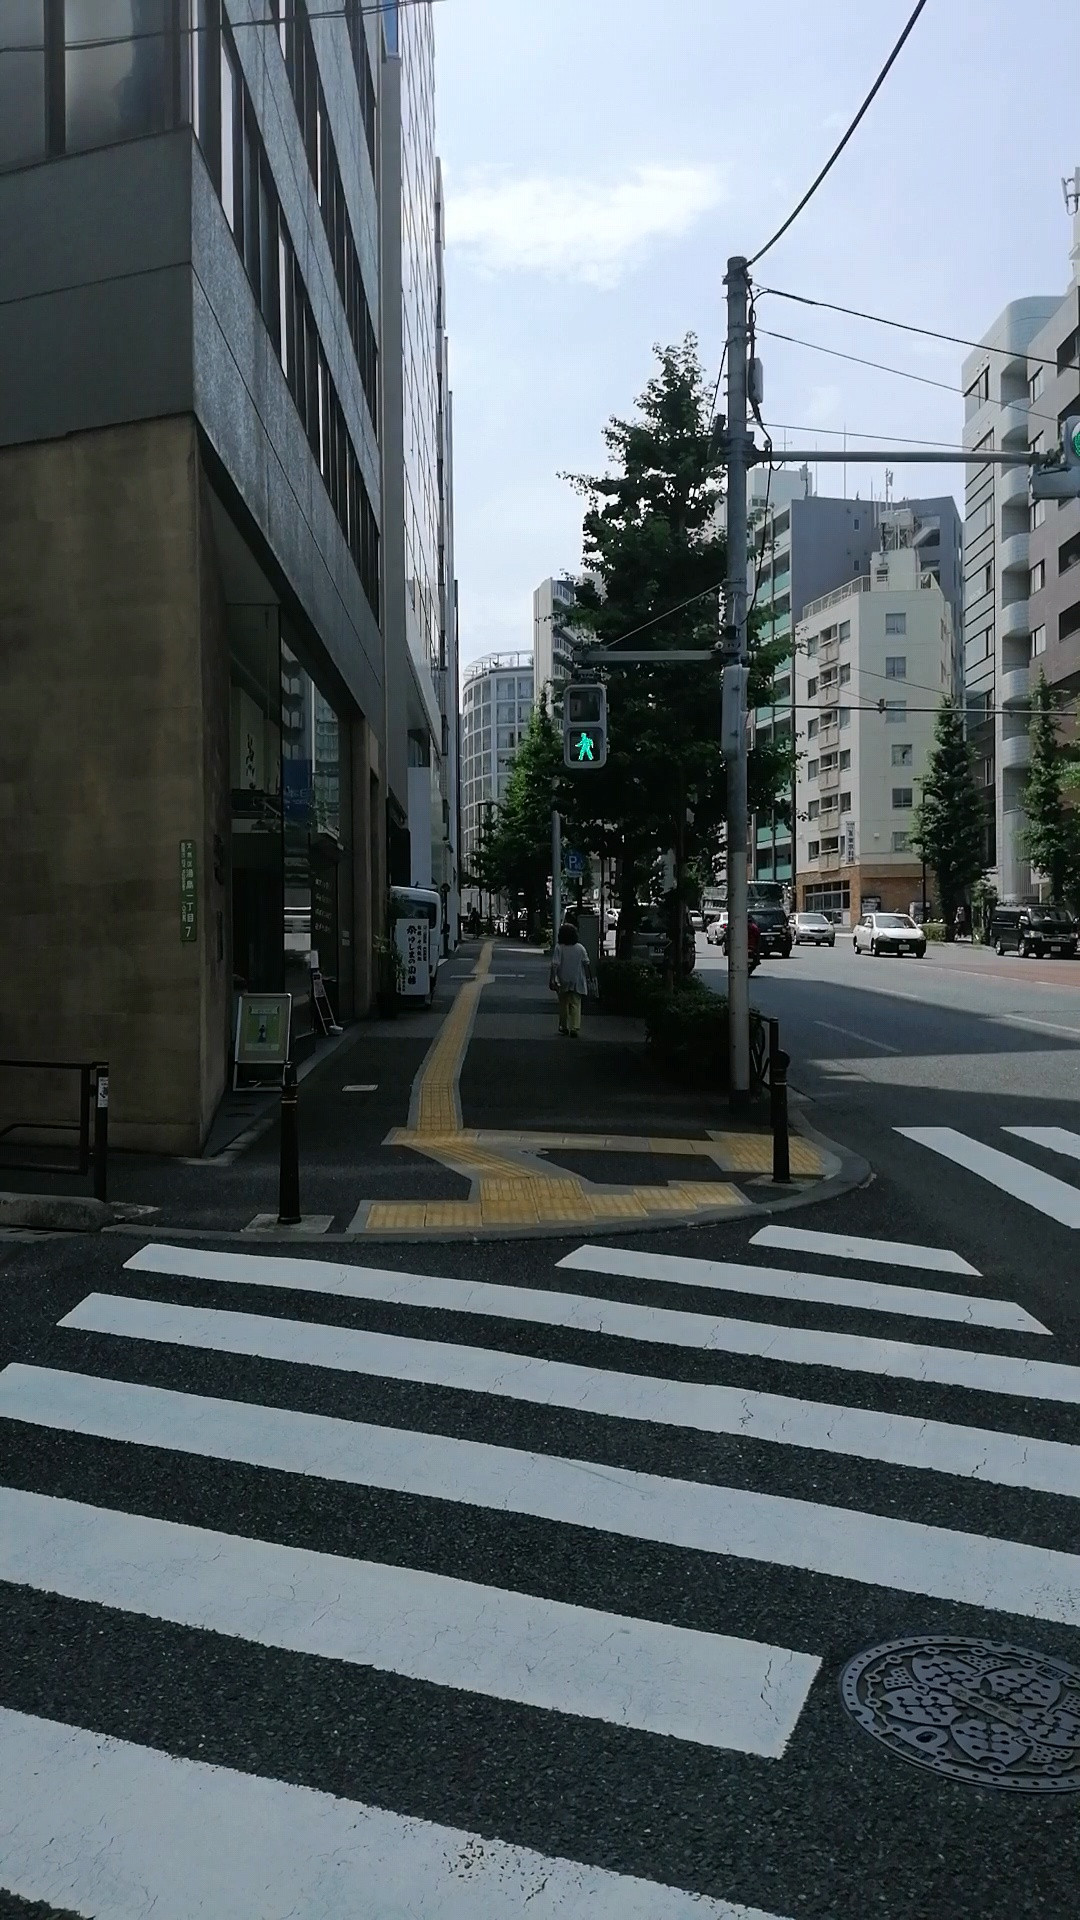green: (562, 683, 611, 767)
